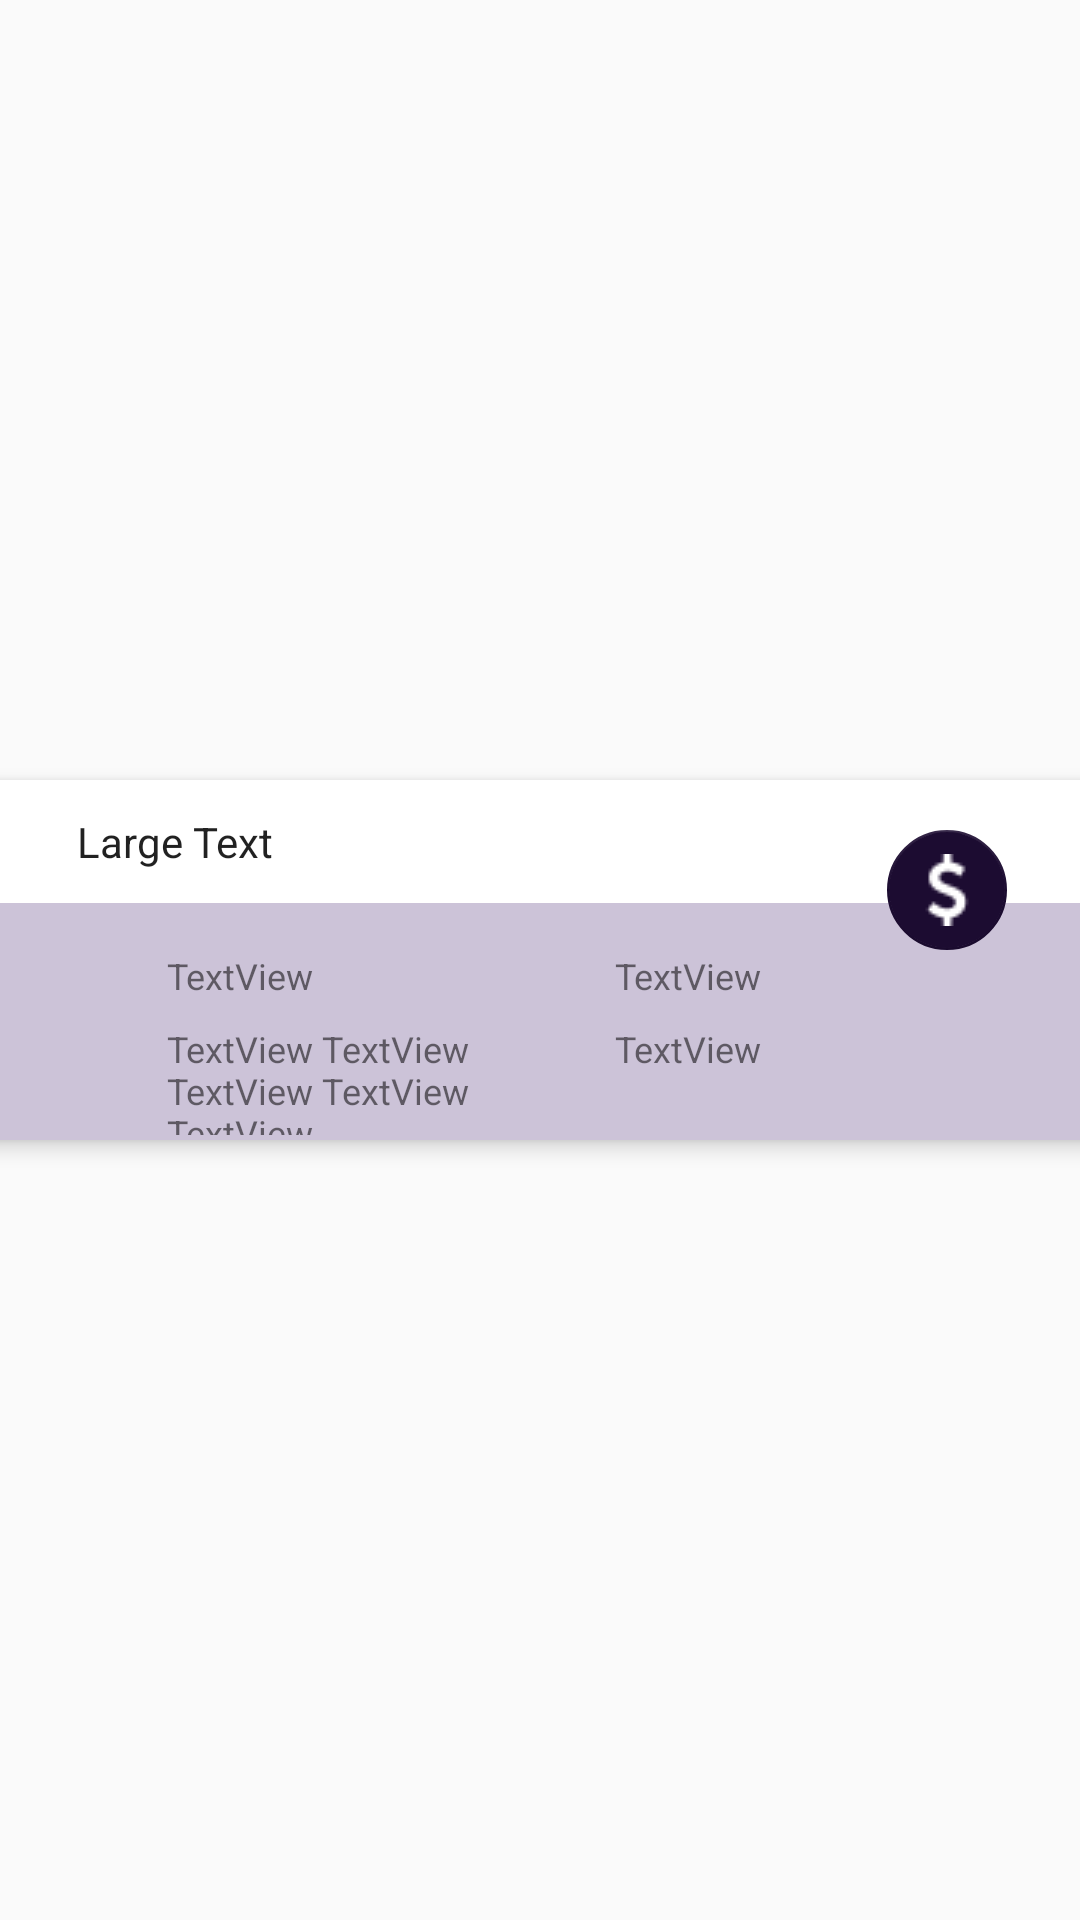

Icons on this 1080w x 1920h Android screen, each with the point to tap as (x=x, y=y):
usd: (x=947, y=890)
